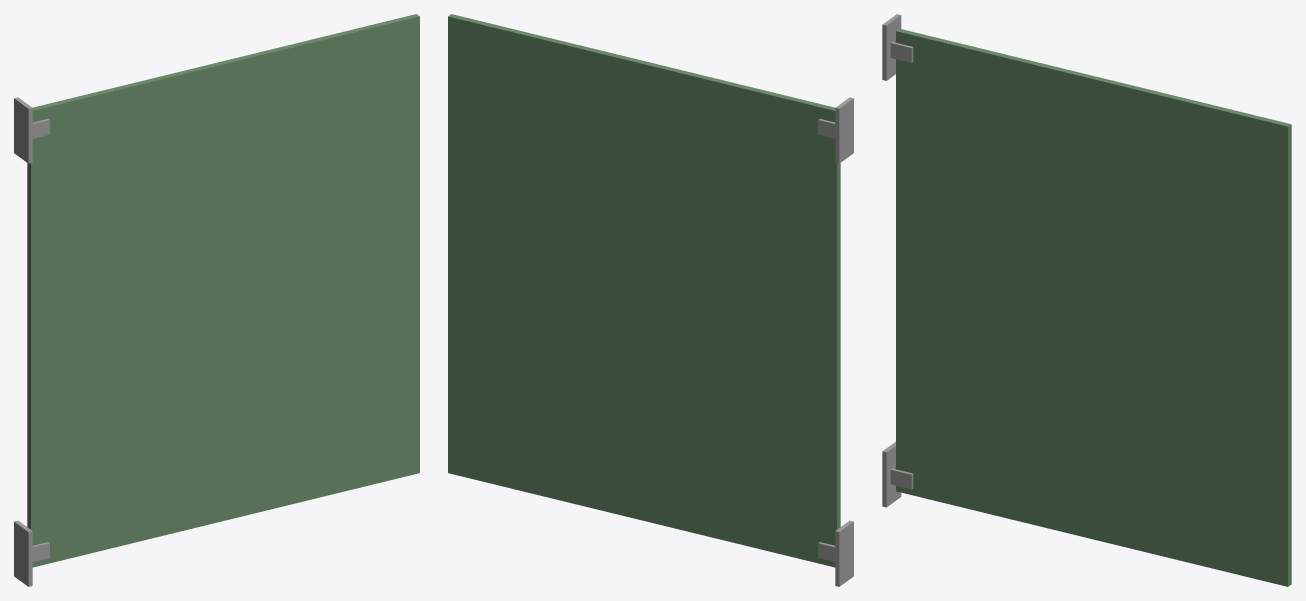
Rendered from StallWall.fbx.
3 views of the same model, side by side, from view 1: azimuth 30°, elevation 25°; view 2: azimuth 150°, elevation 25°; view 3: azimuth 330°, elevation 25° (orthographic).
Parts seen in each view (by area): view 1: pCube9; view 2: pCube9; view 3: pCube9.
Part boxes in pixels (left/top/right/bottom): pCube9: left=14, top=14, right=419, bottom=586; pCube9: left=448, top=14, right=853, bottom=586; pCube9: left=882, top=14, right=1291, bottom=586.
Bounding box in the file's own units: 7.78 × 8.95 × 0.492.
